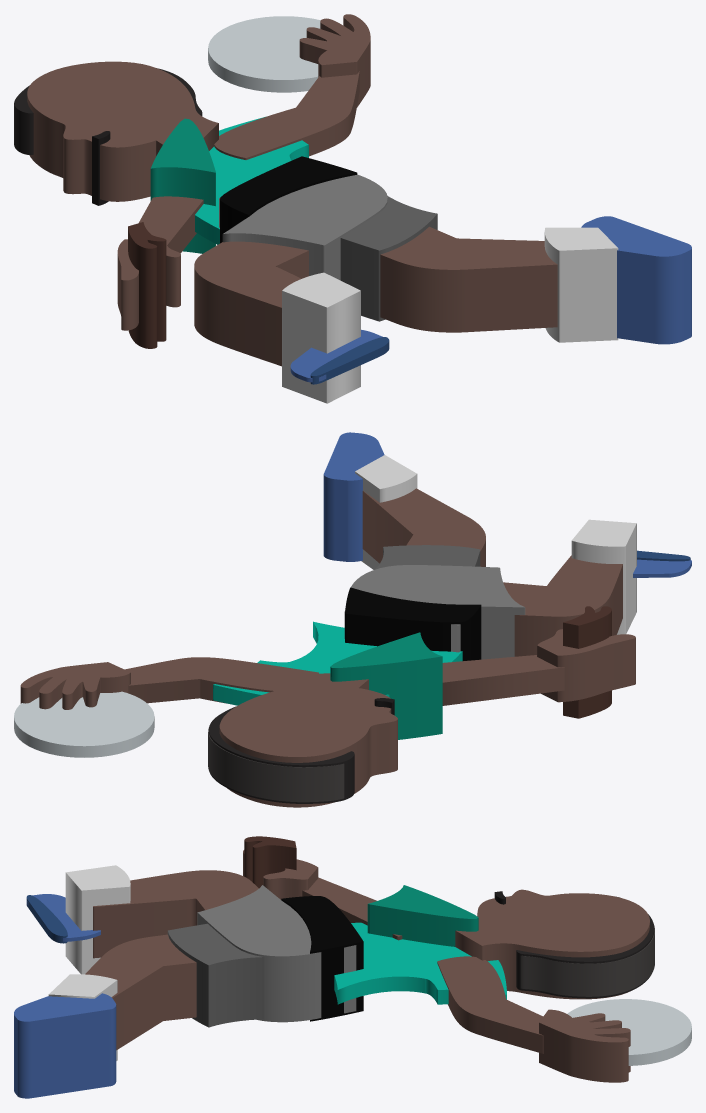
The model's file is emoji_u1f93e_1f3ff_200d_2642.glb.
3 renders of one model, top to bottom at view 1: azimuth 30°, elevation 25°; view 2: azimuth 150°, elevation 25°; view 3: azimuth 270°, elevation 25°, orthographic. The views are drawn at different scales.
Parts seen in each view (by area): view 1: emoji_u1f93e_1f3ff_200d_2642; view 2: emoji_u1f93e_1f3ff_200d_2642; view 3: emoji_u1f93e_1f3ff_200d_2642.
Boxes of the visible parts, <box> form: emoji_u1f93e_1f3ff_200d_2642: <box>14,14,691,403</box>; emoji_u1f93e_1f3ff_200d_2642: <box>14,432,691,807</box>; emoji_u1f93e_1f3ff_200d_2642: <box>14,836,691,1098</box>.
Bounding box in the file's own units: 0.0225 × 0.0048 × 0.0336.
